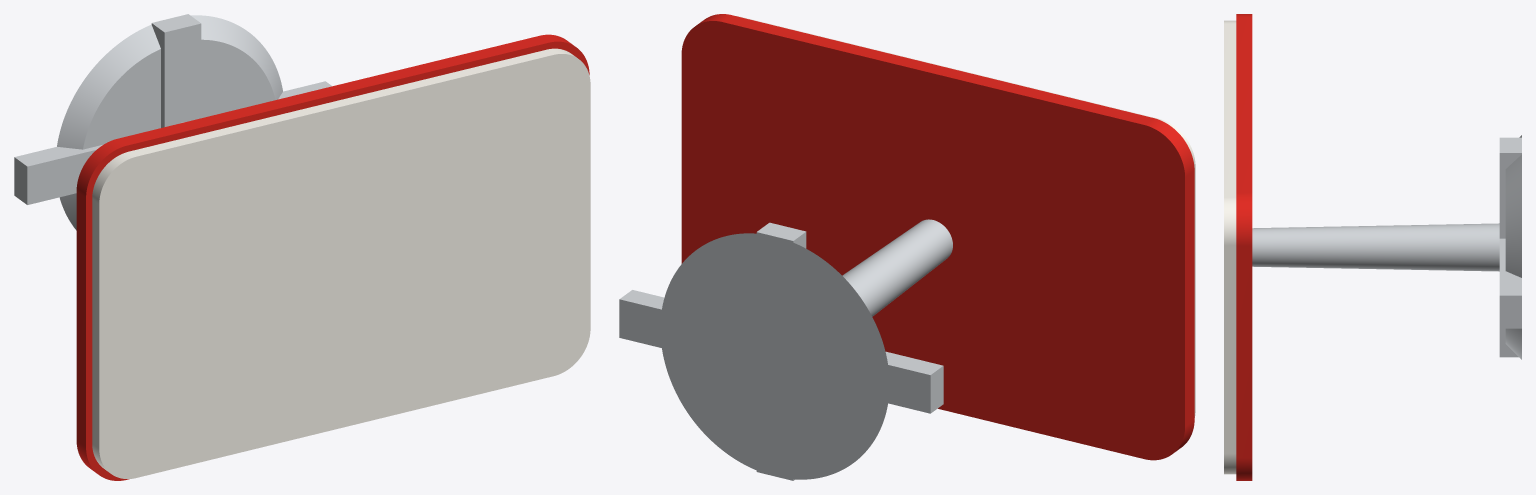
Rendered from table.glb.
3 renders of one model, left to right at view 1: azimuth 30°, elevation 25°; view 2: azimuth 150°, elevation 25°; view 3: azimuth 270°, elevation 25°, orthographic. The views are drawn at different scales.
Parts seen in each view (by area): view 1: 天板, ベース盤, 赤エッジ, ベース脚_Y, ベース脚_X; view 2: 赤エッジ, ベース盤, ベース脚_X, ベース脚_Y, 柱, 天板; view 3: 柱, 赤エッジ, 天板, ベース盤, ベース脚_X, ベース脚_Y.
Boxes of the visible parts, <box> form: 天板: <box>92,48,590,478</box>; ベース盤: <box>57,15,282,230</box>; 赤エッジ: <box>76,34,589,480</box>; ベース脚_Y: <box>151,14,201,127</box>; ベース脚_X: <box>14,81,331,204</box>; 赤エッジ: <box>681,14,1194,460</box>; ベース盤: <box>660,233,889,479</box>; ベース脚_X: <box>619,290,943,413</box>; ベース脚_Y: <box>756,222,806,480</box>; 柱: <box>842,219,952,316</box>; 天板: <box>736,16,1195,417</box>; 柱: <box>1252,223,1499,271</box>; 赤エッジ: <box>1236,14,1252,480</box>; 天板: <box>1224,20,1236,474</box>; ベース盤: <box>1505,135,1521,359</box>; ベース脚_X: <box>1499,238,1521,328</box>; ベース脚_Y: <box>1499,137,1521,357</box>.
Bounding box in the file's own units: 1230 × 780 × 740.
